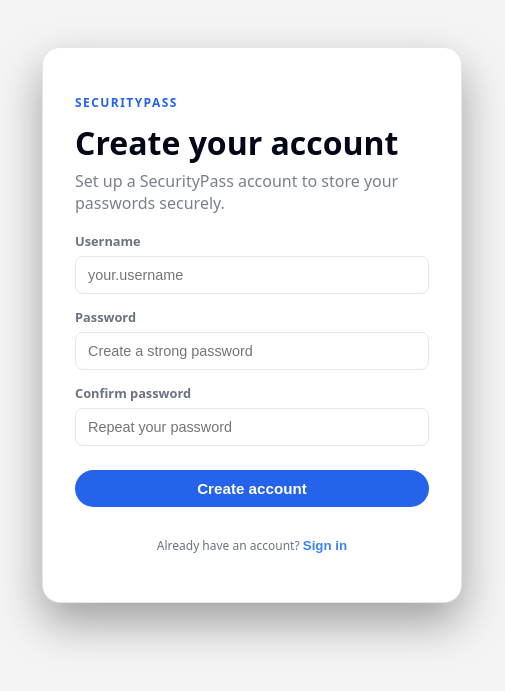
Test: Register Page › shows error when password is less than 8 characters
Step 1. Type "testuser" into the field with placeholder "your.username" → [252, 275], box x1=75 y1=256 x2=429 y2=294
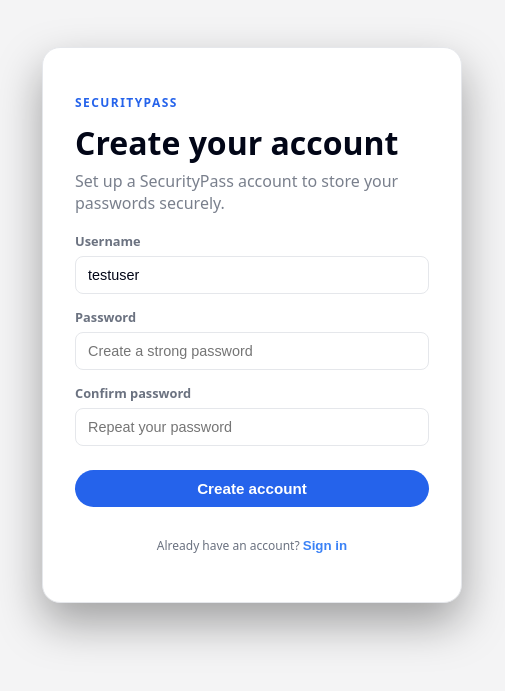
Step 2. Type "abc" into the password field with placeholder "Create a strong password" → [252, 351], box x1=75 y1=332 x2=429 y2=370
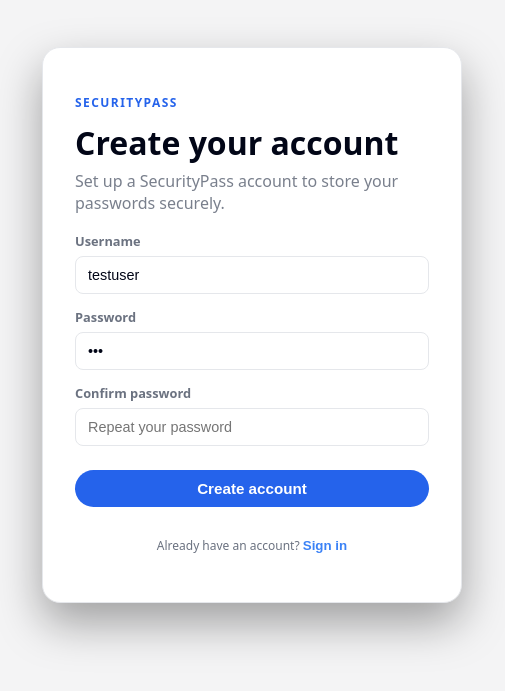
Step 3. Type "abc" into the password field with placeholder "Repeat your password" → [252, 427], box x1=75 y1=408 x2=429 y2=446
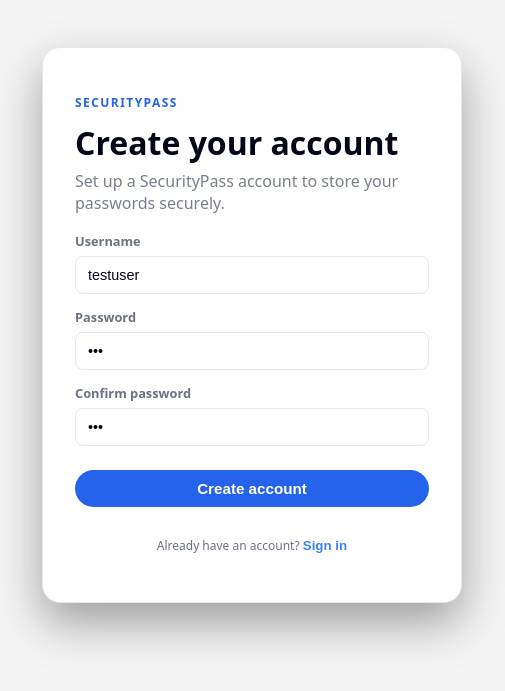
Step 4. Click the button "Create account" → [252, 488], box x1=75 y1=470 x2=429 y2=507
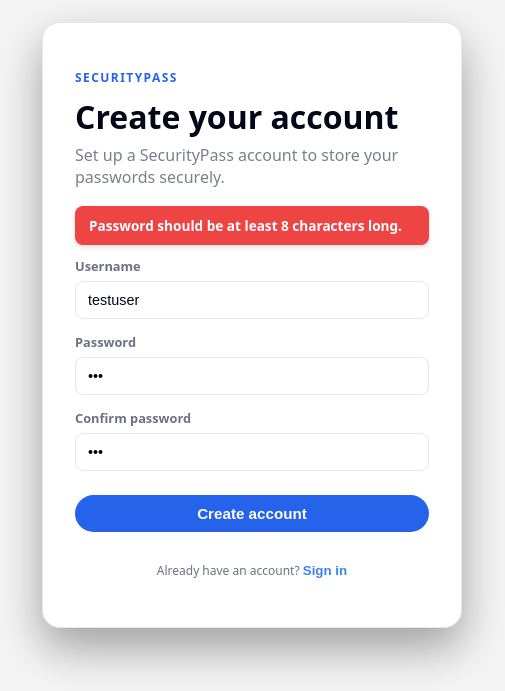
expect the text "Password should be at least 8 characters long." is shown: met, box x1=75 y1=206 x2=429 y2=246
